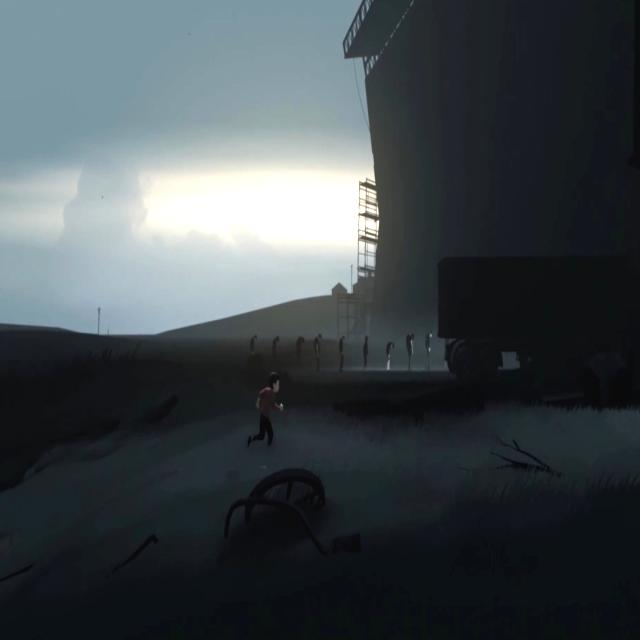boy: (249, 372, 282, 448)
zombie: (406, 332, 415, 371), (425, 331, 433, 370), (314, 334, 322, 373), (338, 336, 346, 372), (296, 336, 305, 366), (386, 341, 394, 371), (362, 335, 368, 369), (271, 336, 279, 361), (250, 334, 257, 357)
